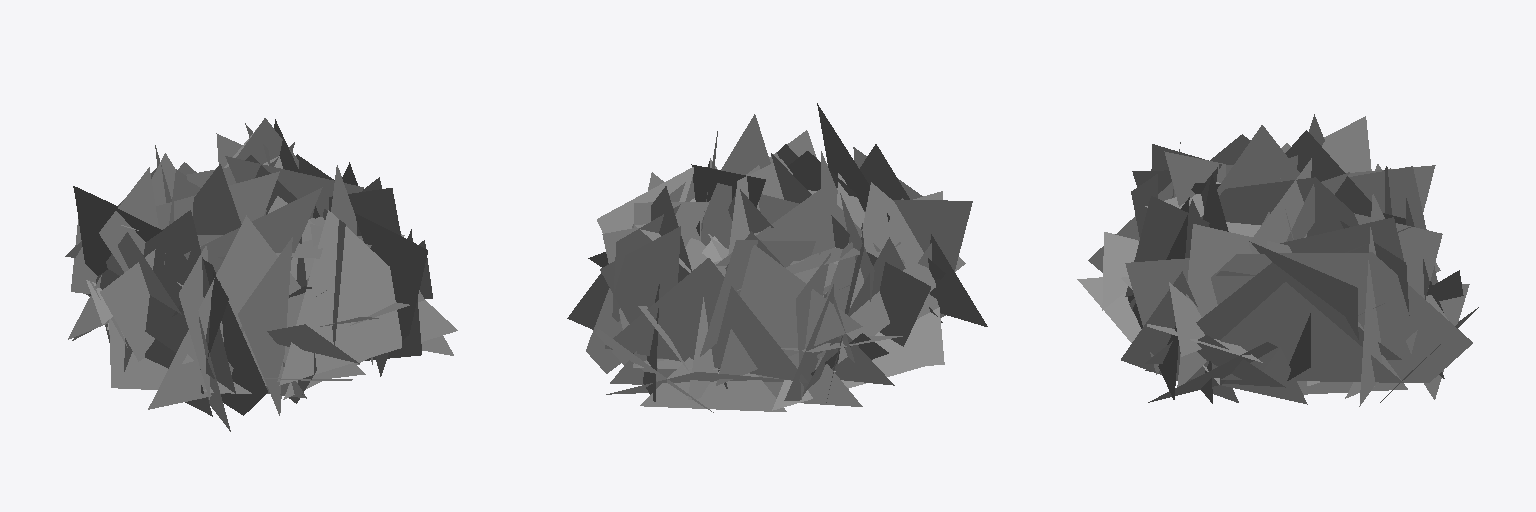
File: Swamp_Bush.obj
3 views of the same model, side by side, from view 1: azimuth 30°, elevation 25°; view 2: azimuth 150°, elevation 25°; view 3: azimuth 270°, elevation 25° (orthographic).
Parts seen in each view (by area): view 1: Foliage_Swamp_Bush_LOD0, Foliage_Swamp_Bush_LOD1; view 2: Foliage_Swamp_Bush_LOD0; view 3: Foliage_Swamp_Bush_LOD0, Foliage_Swamp_Bush_LOD1.
Part boxes in pixels (bbox=[...]): Foliage_Swamp_Bush_LOD0: bbox=[65, 118, 457, 431]; Foliage_Swamp_Bush_LOD1: bbox=[205, 156, 316, 387]; Foliage_Swamp_Bush_LOD0: bbox=[567, 103, 987, 412]; Foliage_Swamp_Bush_LOD0: bbox=[1077, 114, 1478, 406]; Foliage_Swamp_Bush_LOD1: bbox=[1092, 177, 1469, 342].
Size of the model in its own units: 778 by 497 by 831.